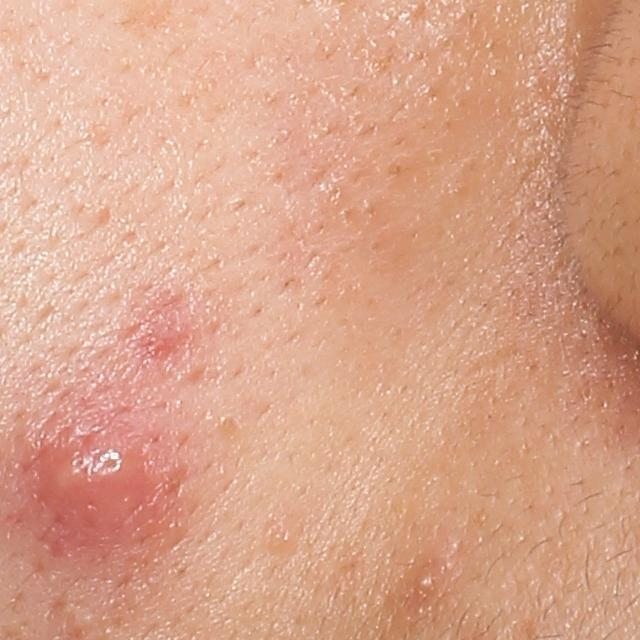comedo: (273, 526, 298, 551)
